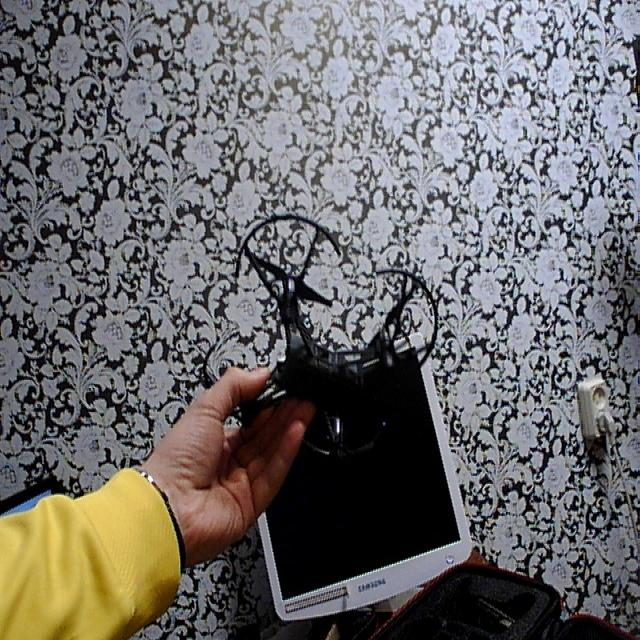drone: (221, 204, 443, 480)
